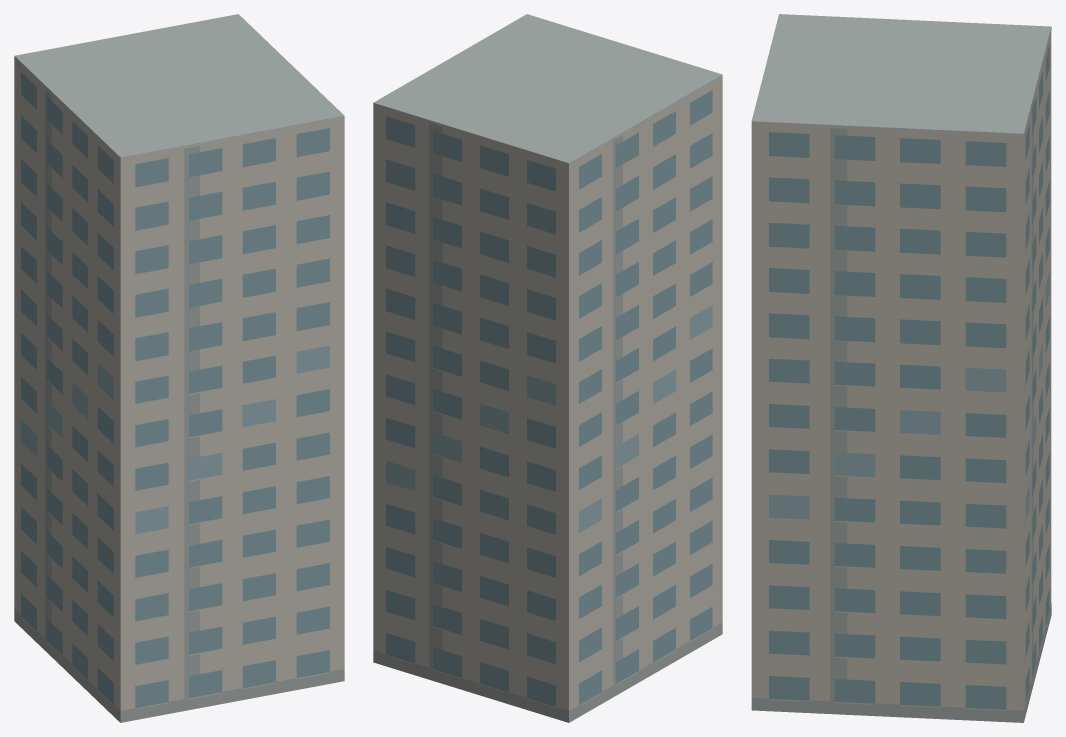
File: residential-0653bd14-f07e-4647-8842-e472bf0e6b10.glb
3 renders of one model, left to right at view 1: azimuth 30°, elevation 25°; view 2: azimuth 150°, elevation 25°; view 3: azimuth 270°, elevation 25°, orthographic. The views are drawn at different scales.
Parts seen in each view (by area): view 1: residential-0653bd14-f07e-4647-8842-e472bf0e6b10.tmp; view 2: residential-0653bd14-f07e-4647-8842-e472bf0e6b10.tmp; view 3: residential-0653bd14-f07e-4647-8842-e472bf0e6b10.tmp.
Part boxes in pixels (box(x1,y1,x2,y2)): residential-0653bd14-f07e-4647-8842-e472bf0e6b10.tmp: box(14, 14, 344, 722); residential-0653bd14-f07e-4647-8842-e472bf0e6b10.tmp: box(373, 14, 722, 722); residential-0653bd14-f07e-4647-8842-e472bf0e6b10.tmp: box(751, 14, 1051, 722).
Size of the model in its own units: 19.19 by 44 by 20.31.
